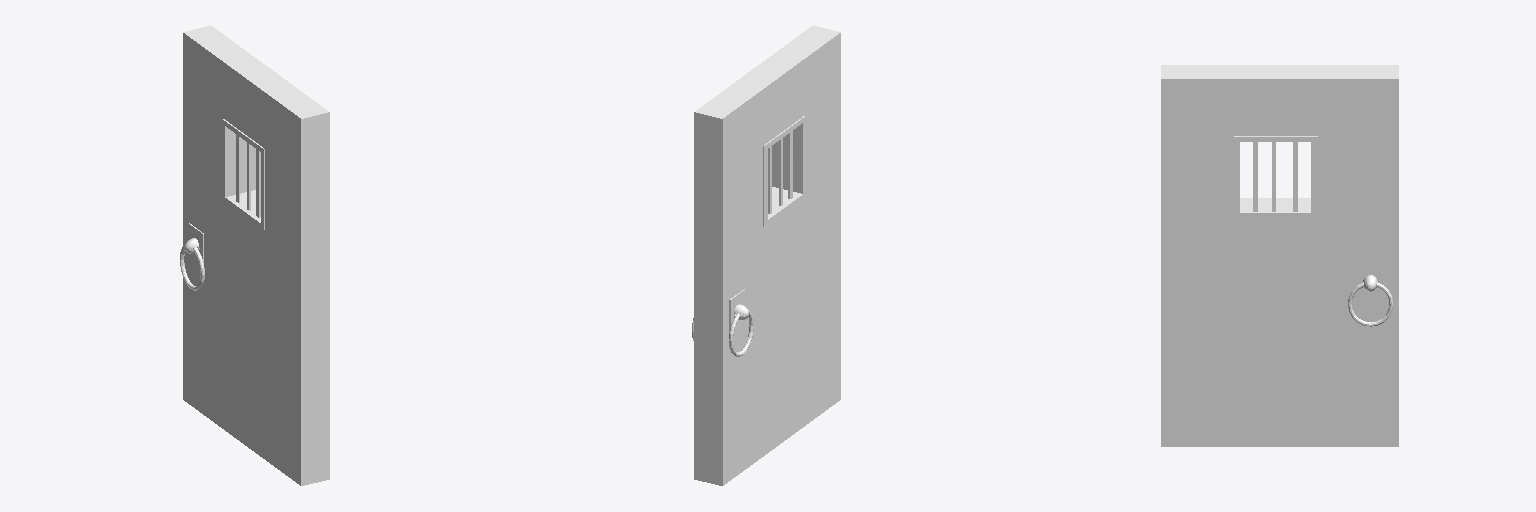
The model's file is Door_C.obj.
The picture shows the model from 3 angles: view 1: azimuth 30°, elevation 25°; view 2: azimuth 150°, elevation 25°; view 3: azimuth 270°, elevation 25°; orthographic projection.
Parts seen in each view (by area): view 1: Door_C; view 2: Door_C; view 3: Door_C.
Boxes of the visible parts, x1=… form: Door_C: x1=180, y1=25, x2=329, y2=485; Door_C: x1=692, y1=25, x2=840, y2=485; Door_C: x1=1161, y1=65, x2=1398, y2=446.
Size of the model in its own units: 4.87 by 33.25 by 19.45.